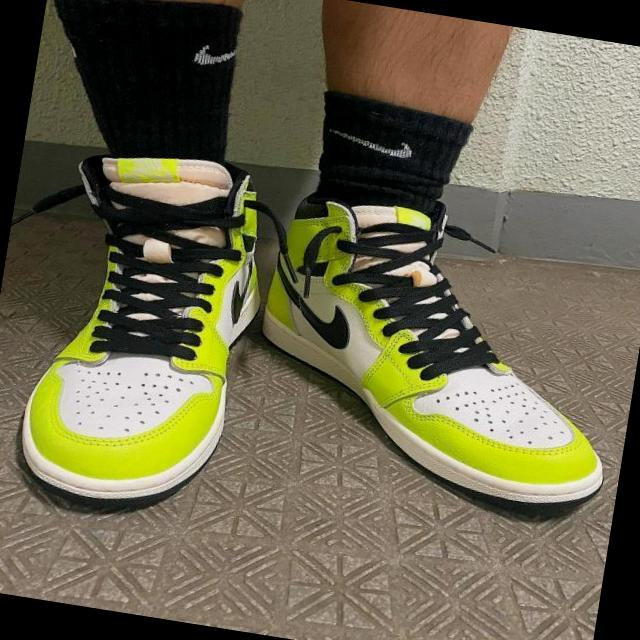nike_original_jordan: (227, 177, 640, 520), (12, 141, 286, 528)
